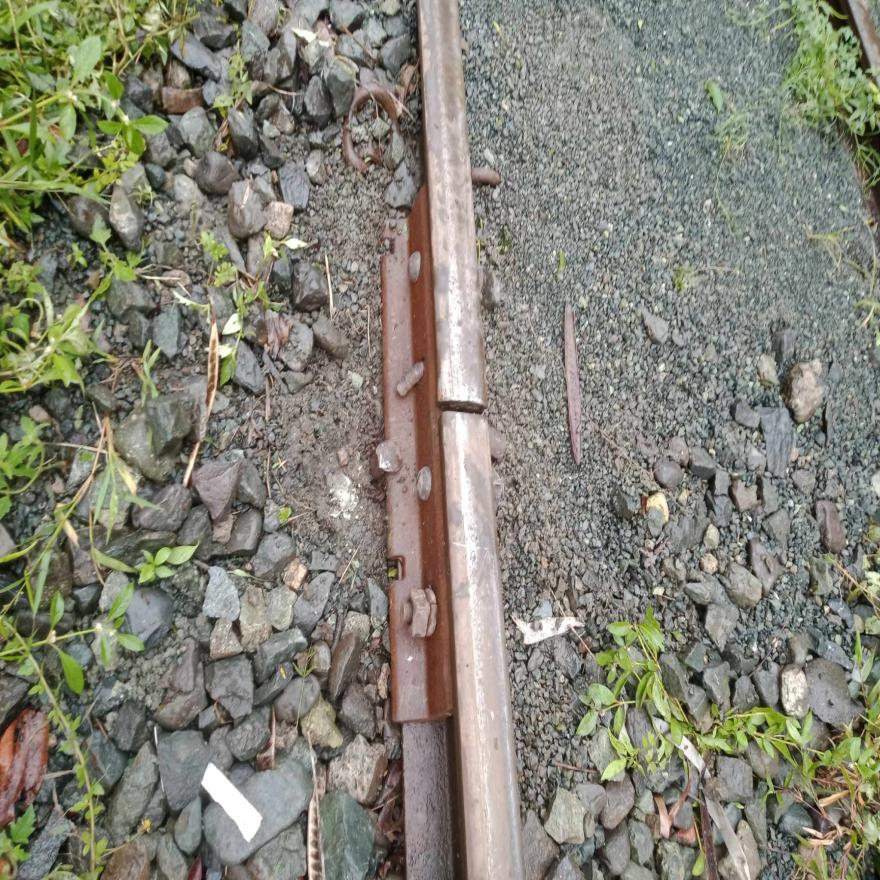railway-gap: (420, 355, 501, 460)
